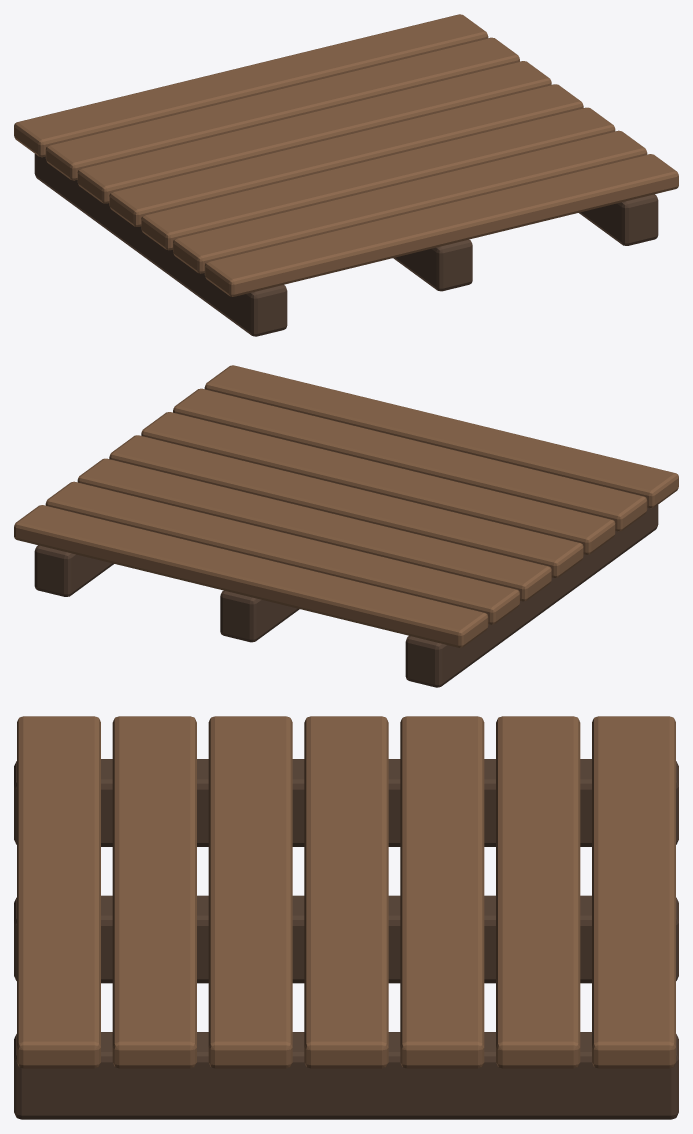
The model's file is prop_pallet_wood_a.gltf.
The picture shows the model from 3 angles, top to bottom: view 1: azimuth 30°, elevation 25°; view 2: azimuth 150°, elevation 25°; view 3: azimuth 270°, elevation 25°; orthographic projection. The views are drawn at different scales.
Parts seen in each view (by area): view 1: prop_pallet_wood_a__wood, prop_pallet_wood_a__wood_edge; view 2: prop_pallet_wood_a__wood, prop_pallet_wood_a__wood_edge; view 3: prop_pallet_wood_a__wood, prop_pallet_wood_a__wood_edge.
Boxes of the visible parts, box(x1,y1,x2,y2) form: prop_pallet_wood_a__wood: box(14, 14, 678, 296); prop_pallet_wood_a__wood_edge: box(34, 154, 658, 336); prop_pallet_wood_a__wood: box(14, 365, 678, 647); prop_pallet_wood_a__wood_edge: box(34, 505, 658, 687); prop_pallet_wood_a__wood: box(17, 716, 675, 1068); prop_pallet_wood_a__wood_edge: box(14, 759, 678, 1119).
Size of the model in its own units: 4 by 0.53 by 3.4.
